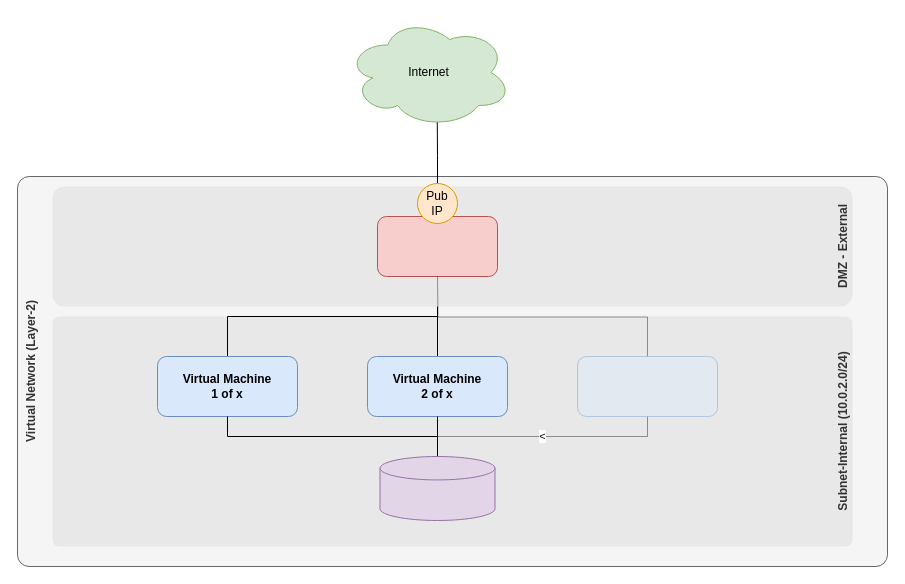
This 905x584 diagram has some shape labels left out. The centre of each missing label's shape, as x and y in pixels:
"Managed Disk (SAN)" belongs at point (437, 488).
"Service Load Balancer" belongs at point (437, 246).
"Virtual Machine 3 of x" belongs at point (647, 386).
